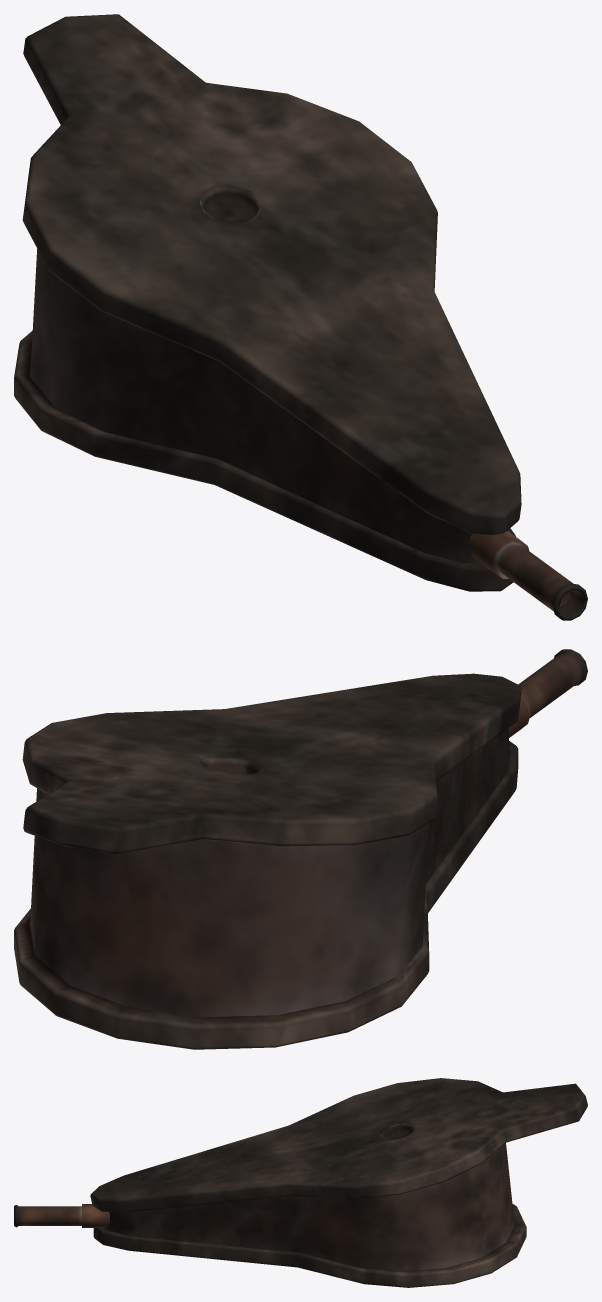
File: bellows.glb
The picture shows the model from 3 angles, top to bottom: view 1: azimuth 30°, elevation 25°; view 2: azimuth 150°, elevation 25°; view 3: azimuth 270°, elevation 25°; orthographic projection. The views are drawn at different scales.
Visible parts, largest first — view 1: SM_Tool01_BlowingThingy2_153_M_Tools01_0; view 2: SM_Tool01_BlowingThingy2_153_M_Tools01_0; view 3: SM_Tool01_BlowingThingy2_153_M_Tools01_0.
Boxes of the visible parts, bbox=[...] form: SM_Tool01_BlowingThingy2_153_M_Tools01_0: bbox=[14, 14, 587, 620]; SM_Tool01_BlowingThingy2_153_M_Tools01_0: bbox=[14, 649, 587, 1049]; SM_Tool01_BlowingThingy2_153_M_Tools01_0: bbox=[14, 1078, 587, 1287].
Bounding box in the file's own units: 29.4 × 19.96 × 71.61.
1 material, 1 textured.
